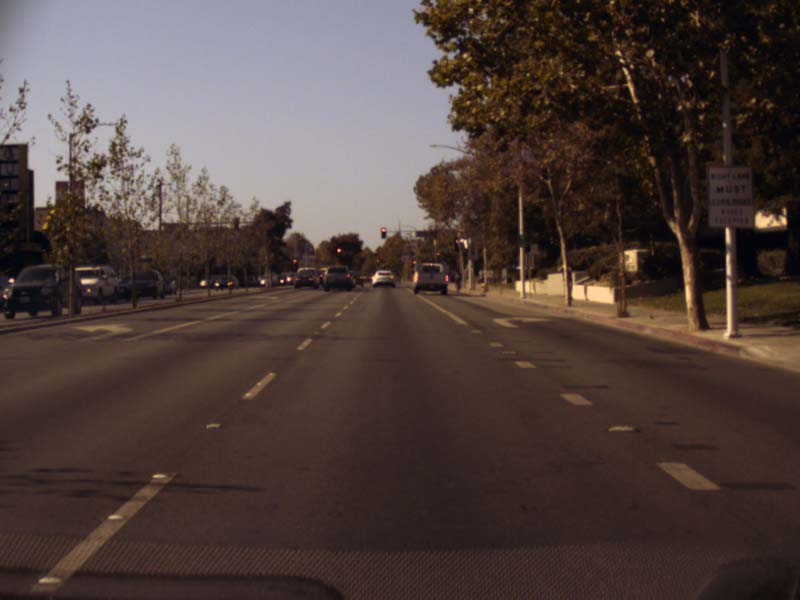Red: (453, 237, 459, 252), (291, 257, 297, 270), (380, 226, 386, 239), (372, 249, 378, 256), (436, 250, 440, 257)
Yellow: (335, 246, 342, 254)
